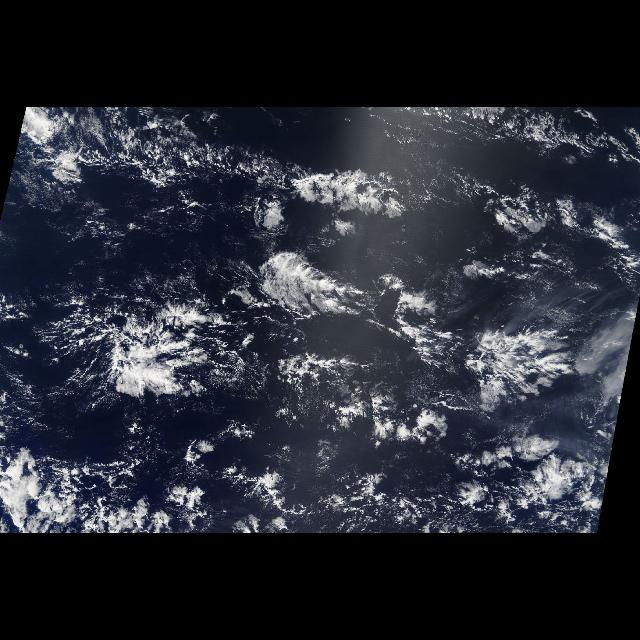Fish: (70, 288, 214, 410), (252, 248, 366, 328), (293, 156, 412, 220)
